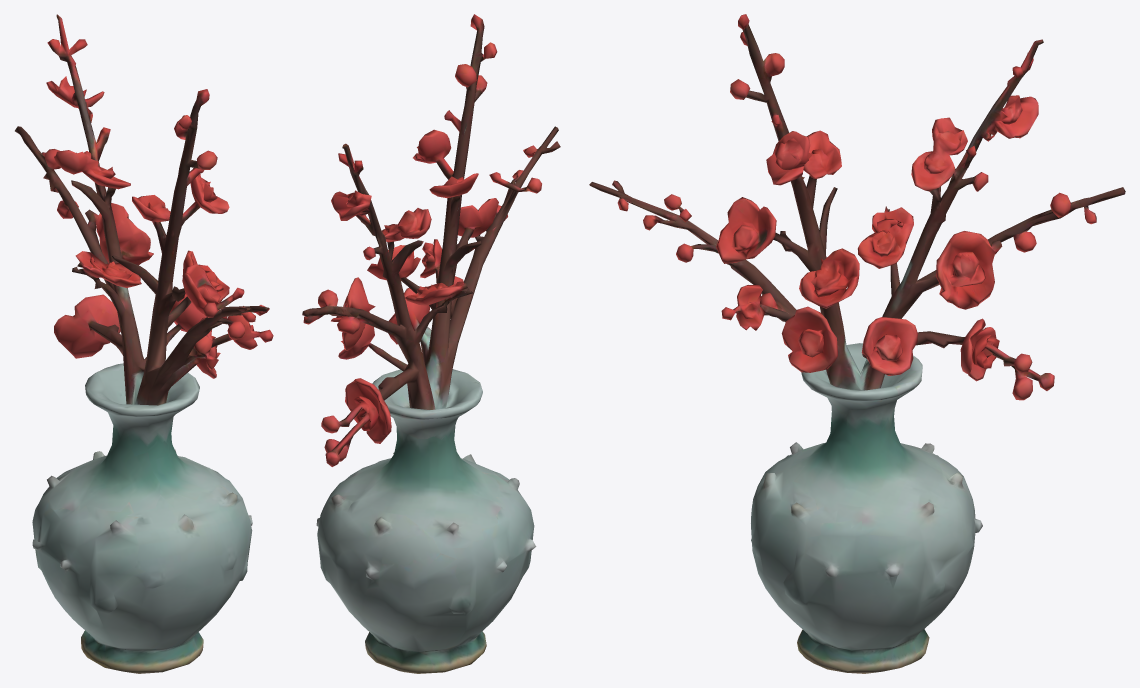
Rendered from meiping.glb.
3 views of the same model, side by side, from view 1: azimuth 30°, elevation 25°; view 2: azimuth 150°, elevation 25°; view 3: azimuth 270°, elevation 25° (orthographic). The views are drawn at different scales.
Parts seen in each view (by area): view 1: tripo_node_81ba7fb7-2d38-482b-b2d6-559754091573; view 2: tripo_node_81ba7fb7-2d38-482b-b2d6-559754091573; view 3: tripo_node_81ba7fb7-2d38-482b-b2d6-559754091573.
Boxes of the visible parts, x1,y1,x2,y2 form: tripo_node_81ba7fb7-2d38-482b-b2d6-559754091573: (15,14,273,673); tripo_node_81ba7fb7-2d38-482b-b2d6-559754091573: (302,14,560,673); tripo_node_81ba7fb7-2d38-482b-b2d6-559754091573: (589,14,1125,673).
Bounding box in the file's own units: 0.3338 × 1 × 0.7607.
1 material, 1 textured.
